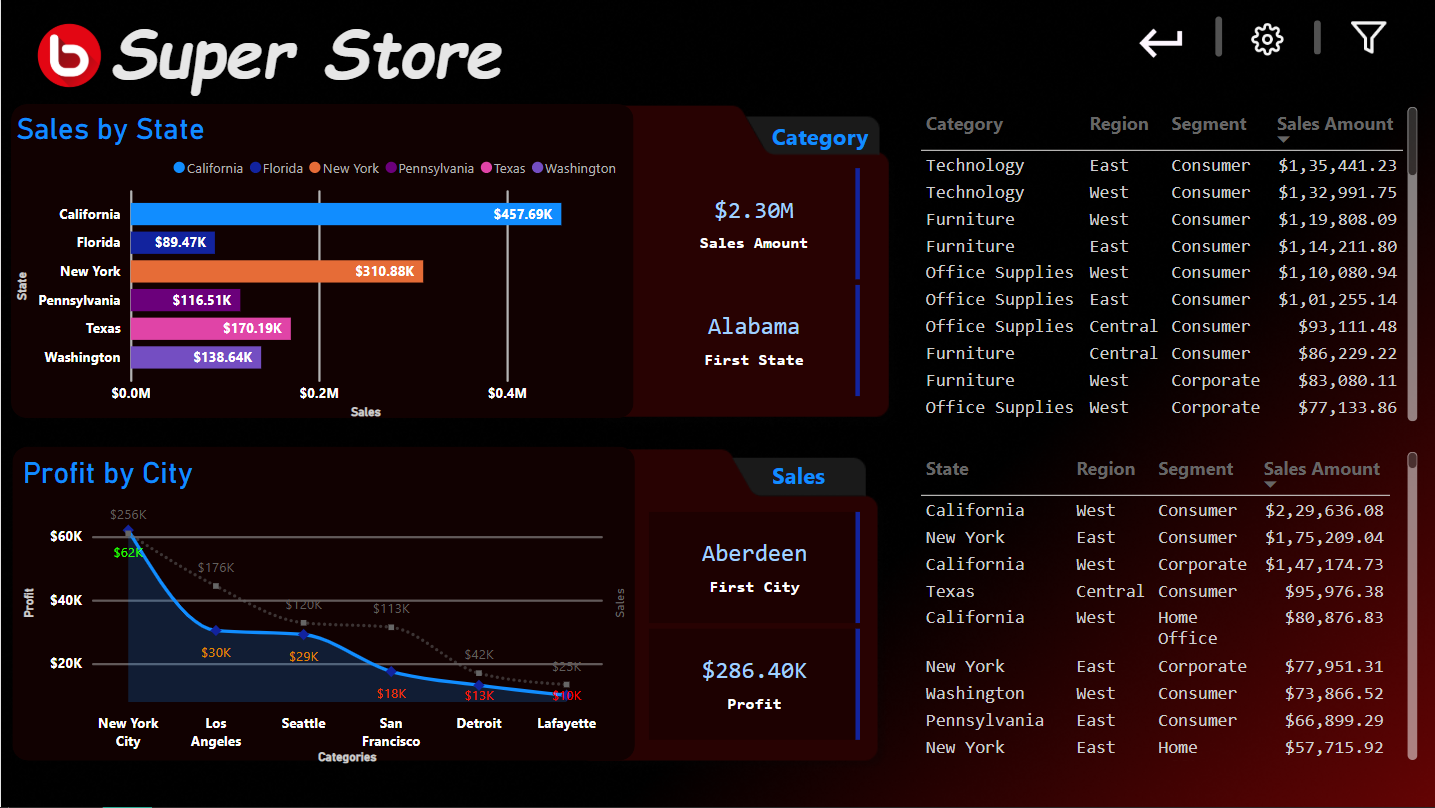

The dashboard page shown, as its layout file describes it:
{"tool":"powerbi","page":{"name":"Page 1","canvas":[1280,720],"ordinal":0},"visuals":[{"type":"textbox","box":[92.5,0,392.5,93.8],"z":0},{"type":"image","box":[1194.3,12.5,46.6,44.6],"z":0,"group":"g3"},{"type":"image","box":[524,90.2,276.9,295.4],"z":500,"group":"g2"},{"type":"image","box":[513.6,396.2,276.9,296.2],"z":500,"group":"g1"},{"type":"image","box":[1104.9,17,44.7,38.3],"z":1000,"group":"g3"},{"type":"tableEx","fields":{"Values":["Orders.Category","Orders.Region","Orders.Segment","Sum(Orders.Sales Amount)"]},"box":[812.6,91.3,454.2,289.4],"z":1000},{"type":"image","box":[996.2,13.4,72.6,51.7],"z":1500,"group":"g3"},{"type":"shape","box":[1168,19.6,9.2,30.7],"z":2000,"group":"g3"},{"type":"shape","box":[8.6,93.3,554.6,279.8],"z":2000,"group":"g2"},{"type":"tableEx","fields":{"Values":["Orders.State","Orders.Region","Orders.Segment","Sum(Orders.Sales Amount)"]},"box":[812.6,398.5,454.2,283.9],"z":2000},{"type":"shape","box":[9.8,398.8,554.6,279.8],"z":2000,"group":"g1"},{"type":"image","title":"ImgBtn","box":[662.5,105,120,34.4],"z":2500,"group":"g2"},{"type":"image","title":"ImgBtn","box":[650,408.8,120,34.4],"z":2500,"group":"g1"},{"type":"actionButton","box":[680,105,99,34],"z":2750,"group":"g2"},{"type":"actionButton","box":[667.5,406.3,85,33.1],"z":2750,"group":"g1"},{"type":"shape","box":[1080,16.1,9.3,35.7],"z":3000,"group":"g3"},{"type":"barChart","title":"Sales  by State","fields":{"Y":["Sum(Orders.Sales Amount)"],"Category":["Orders.State"],"Series":["Orders.State"]},"box":[9.1,99.8,548.8,278.8],"z":3000,"group":"g2"},{"type":"group","id":"g1","title":"Group 1","box":[9.8,396.2,780.8,296.2],"z":3000},{"type":"lineChart","title":"Profit by City","fields":{"Y":["Sum(Orders.Profit)"],"Category":["Orders.City"],"Y2":["Sum(Orders.Sales Amount)"]},"box":[14.8,406.2,548.5,279.8],"z":3000,"group":"g1"},{"type":"cardVisual","fields":{"Data":["Sum(Orders.Sales Amount)","Min(Orders.State)"]},"box":[570.9,146.4,199.1,214.5],"z":4000,"group":"g2"},{"type":"cardVisual","fields":{"Data":["Min(Orders.City)","Sum(Orders.Profit)"]},"box":[572.4,451.3,199,213.3],"z":4000,"group":"g1"},{"type":"group","id":"g2","title":"Group 3","box":[8.6,90.2,792.3,295.4],"z":5000},{"type":"group","id":"g3","title":"Group 5","box":[996.2,12.5,245,52.5],"z":7000},{"type":"image","box":[15,16.2,92.5,67.5],"z":9000}]}

Visuals, with their boxes in screenshot pixels (x1, y1, x2, y2), scaled from the page's 1280x720 canvas onto the 1435x808 screenshot:
textbox: 104/0/544/105
image: 1339/14/1391/64
image: 587/101/898/433
image: 576/445/886/777
image: 1239/19/1289/62
tableEx - Orders.Category x Orders.Region: 911/102/1420/427
image: 1117/15/1198/73
shape: 1309/22/1320/56
shape: 10/105/631/419
tableEx - Orders.State x Orders.Region: 911/447/1420/766
shape: 11/448/633/762
"ImgBtn" image: 743/118/877/156
"ImgBtn" image: 729/459/863/497
actionButton: 762/118/873/156
actionButton: 748/456/844/493
shape: 1211/18/1221/58
"Sales  by State" barChart: 10/112/625/425
"Group 1" group: 11/445/886/777
"Profit by City" lineChart: 17/456/632/770
cardVisual - Sum(Orders.Sales Amount) x Min(Orders.State): 640/164/863/405
cardVisual - Min(Orders.City) x Sum(Orders.Profit): 642/506/865/746
"Group 3" group: 10/101/898/433
"Group 5" group: 1117/14/1392/73
image: 17/18/121/94
